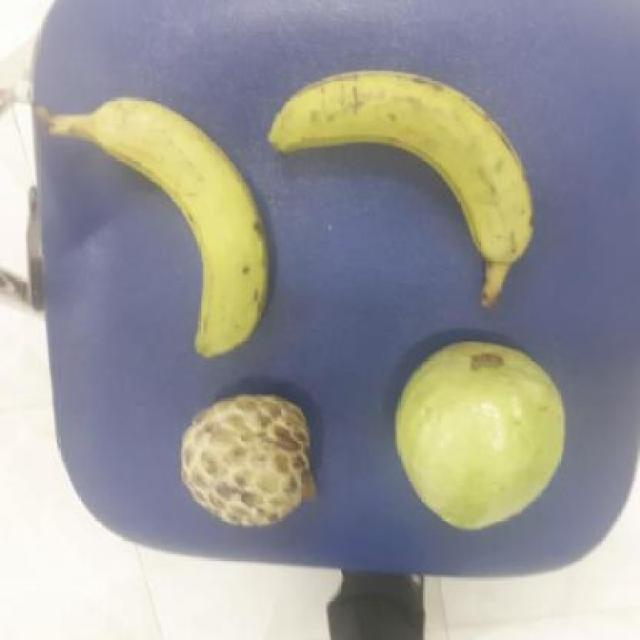banana: (268, 77, 547, 280), (91, 97, 277, 357)
guava: (397, 343, 580, 526), (182, 394, 322, 526)
sugar apple: (182, 393, 326, 529)
